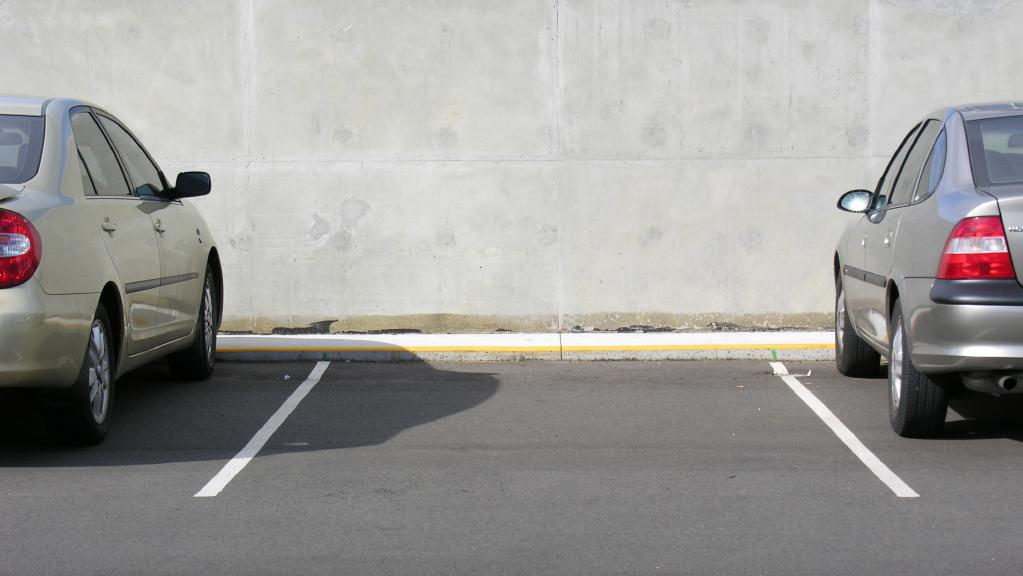empyt_space: (191, 343, 922, 529)
